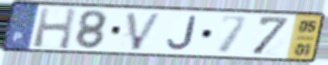7: (253, 15, 292, 57), (216, 14, 249, 55)
8: (72, 8, 110, 51)
H: (31, 6, 79, 51)
J: (165, 14, 199, 52)
V: (125, 11, 165, 52)
